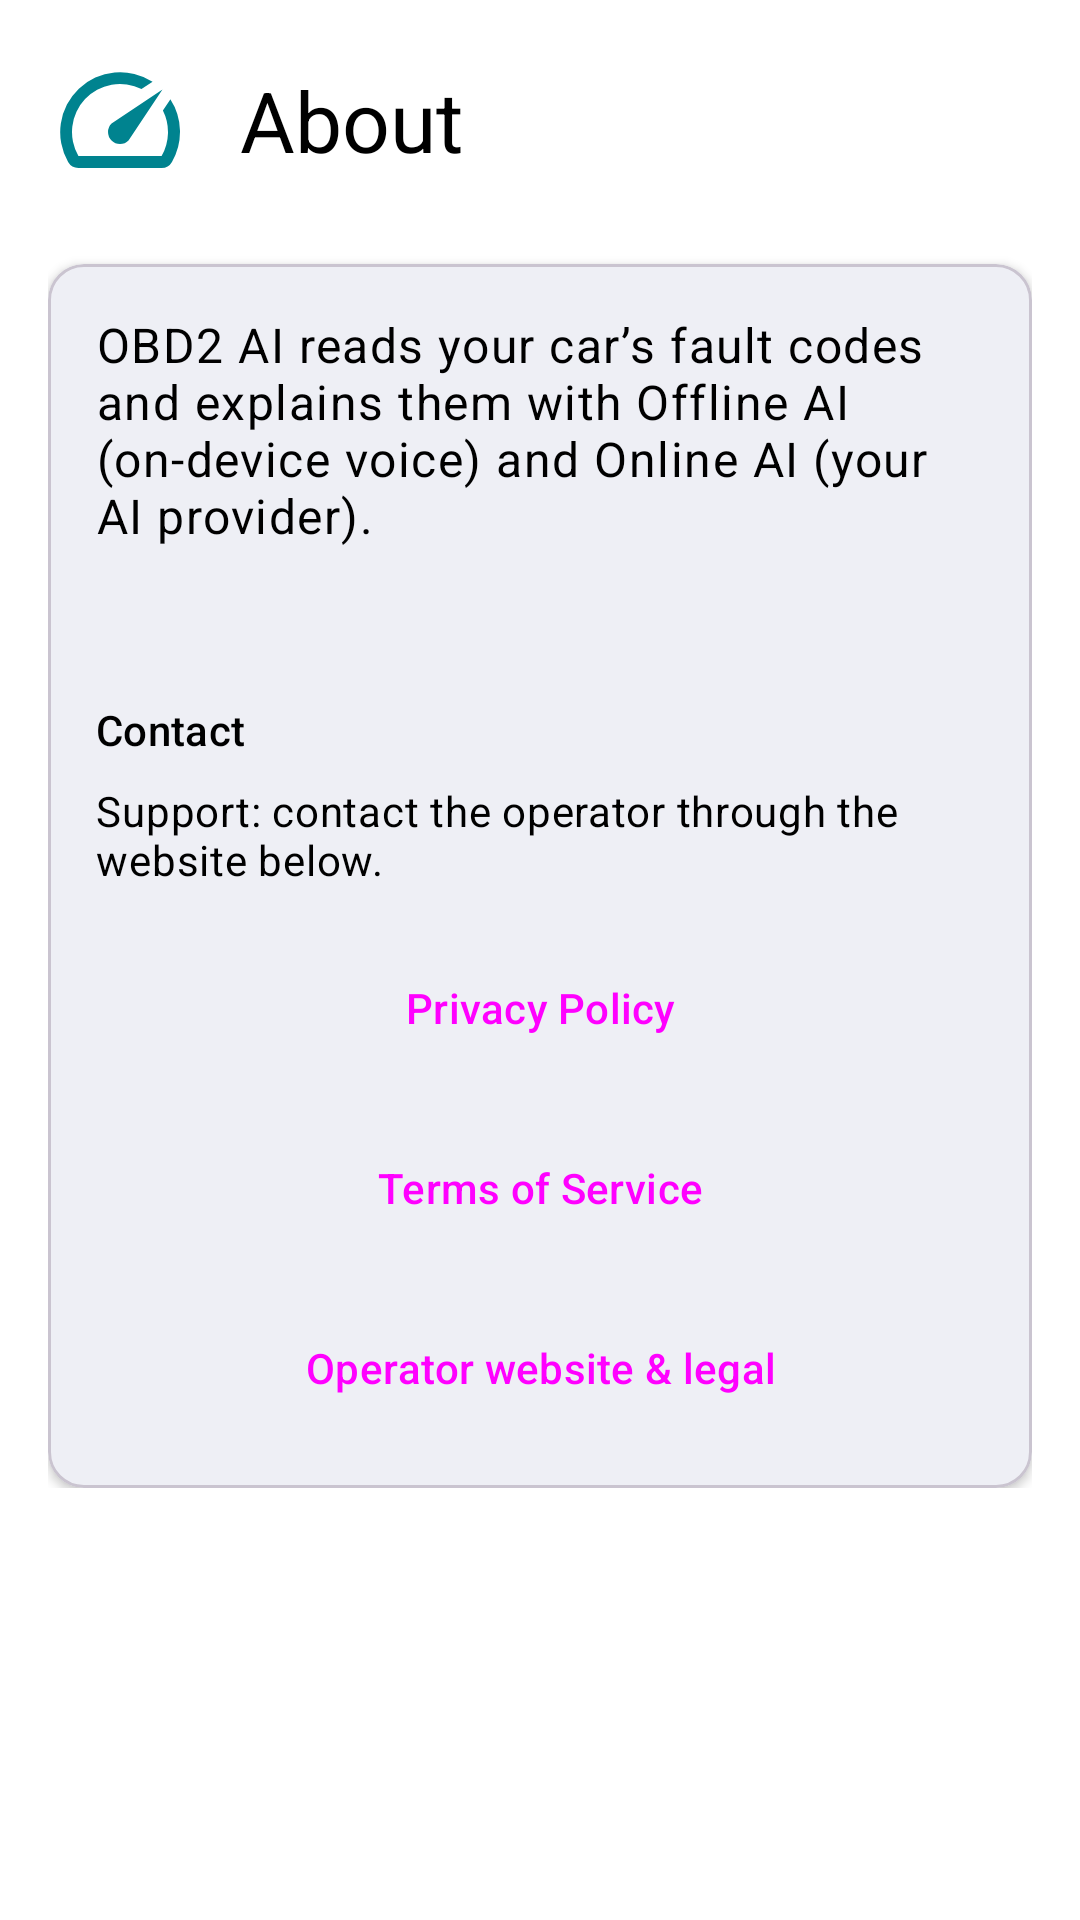

Screen size 1080 × 1920. Icon name, then its box in pixels as bbox=(x1, y1, x2, y2):
gauge: bbox=(60, 72, 180, 168)
